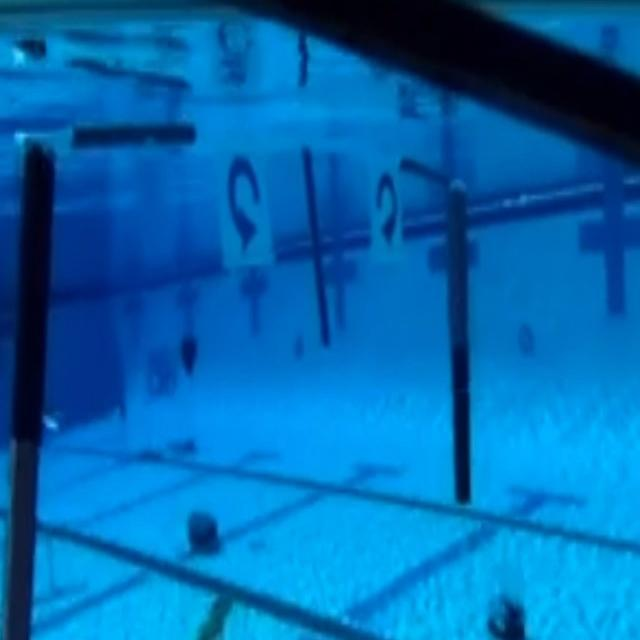Gate: (0, 108, 489, 640)
